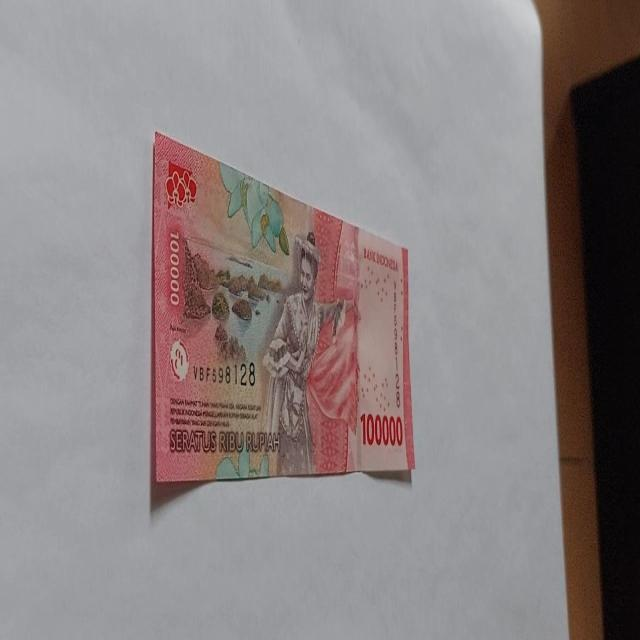Kertas: (150, 129, 416, 499), (192, 359, 256, 388)
